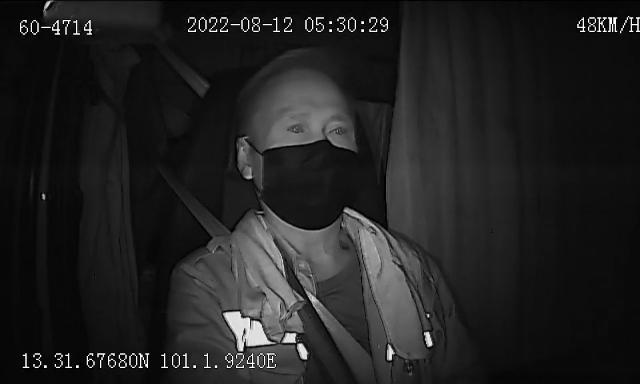SafeDriving: (322, 118, 354, 140), (282, 118, 312, 138)
Seatbelt: (159, 168, 383, 384)
